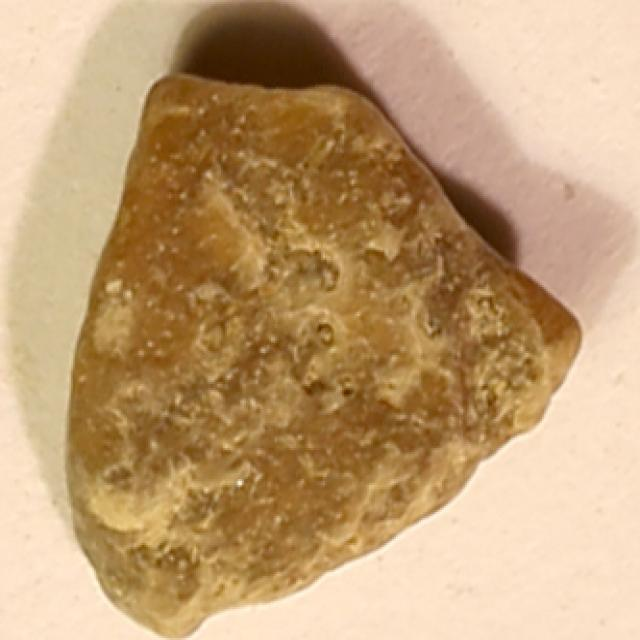stone: (58, 62, 596, 640)
